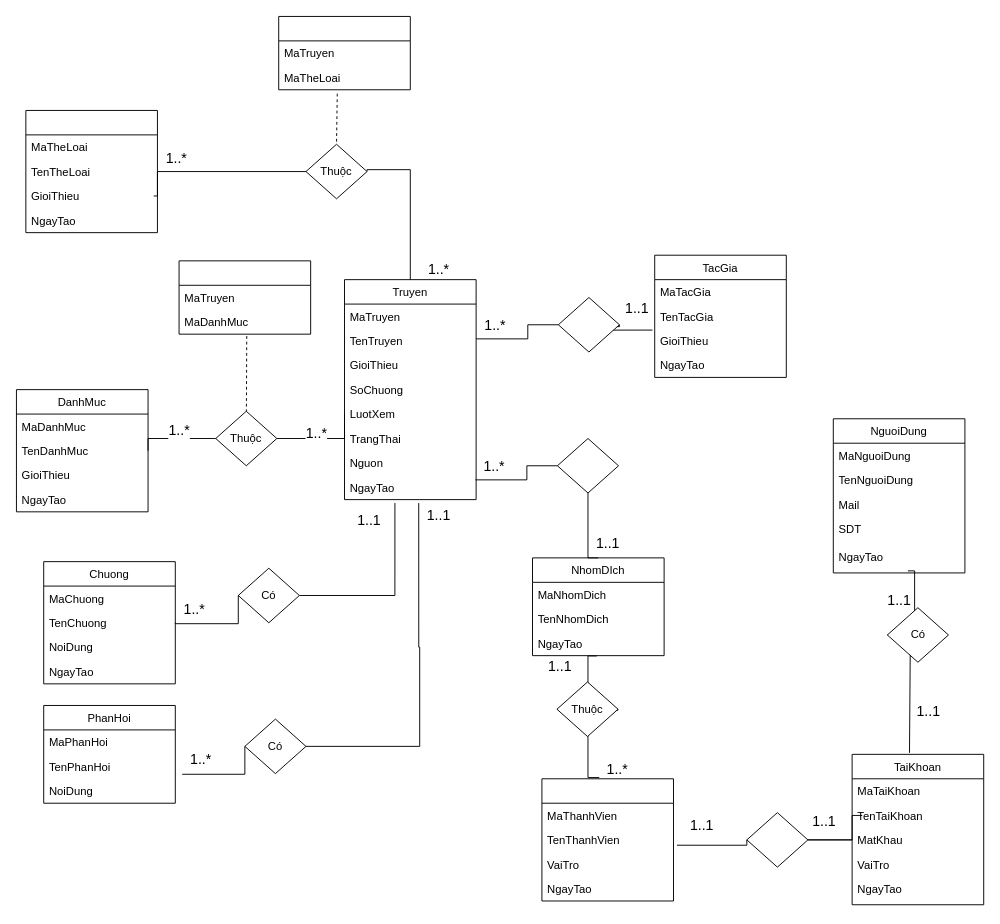
The diagram is 1000 pixels wide and 924 high, and some of its shapes have lost their labels. The shapes that lost their labels are listed below. From the top down, each one's box as (x1, y1, x2, y2) in pixels, then its label:
(25, 110, 157, 233): Thể loại
(557, 297, 619, 352): Sáng tác
(556, 438, 619, 493): Dịch
(541, 778, 674, 901): ThanhVienNhomDich
(746, 812, 808, 867): Là
